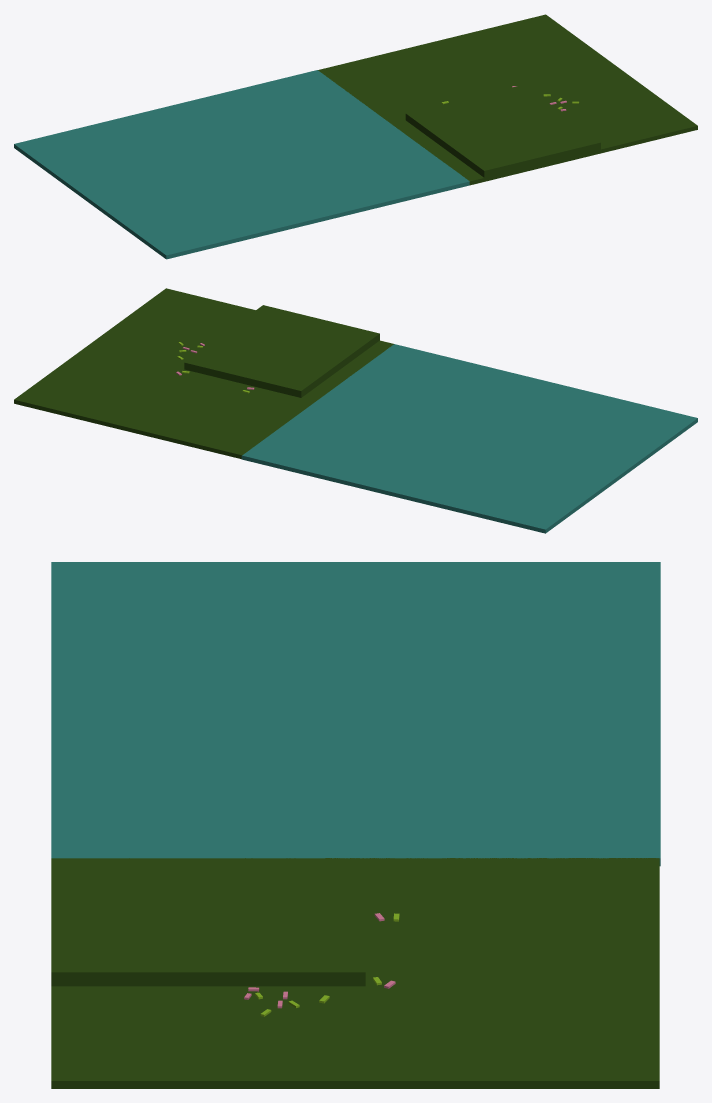
The model's file is land.fbx.
3 views of the same model, one above another, from view 1: azimuth 30°, elevation 25°; view 2: azimuth 150°, elevation 25°; view 3: azimuth 270°, elevation 25° (orthographic). The views are drawn at different scales.
Parts seen in each view (by area): view 1: Plane.012; view 2: Plane.012; view 3: Plane.012.
Boxes of the visible parts, bbox=[...] form: Plane.012: bbox=[14, 14, 697, 259]; Plane.012: bbox=[14, 288, 697, 533]; Plane.012: bbox=[51, 562, 660, 1088].
Bounding box in the file's own units: 10396 × 205 × 5160.
